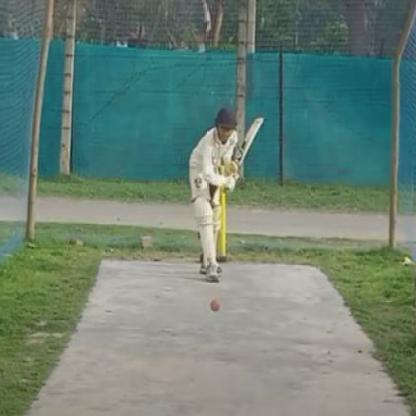ball: (207, 293, 220, 314)
